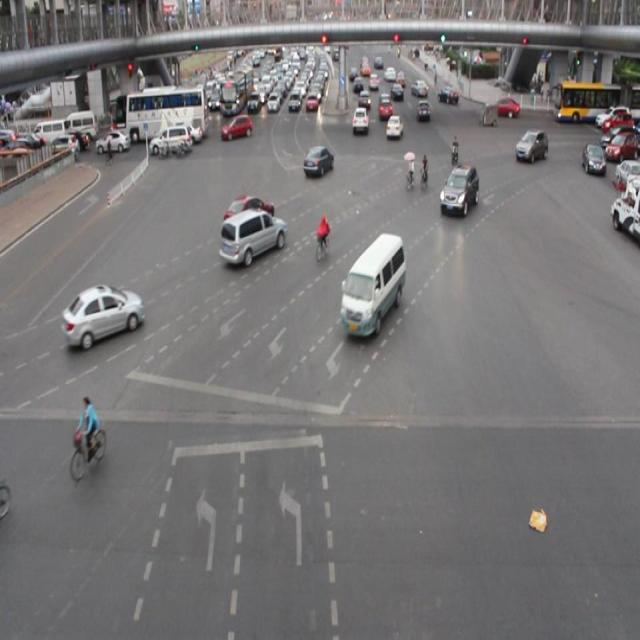car: (60, 278, 146, 348), (222, 191, 276, 238), (438, 162, 481, 220), (513, 128, 549, 166), (301, 145, 333, 179)
truck: (339, 232, 406, 340), (218, 207, 286, 269)
